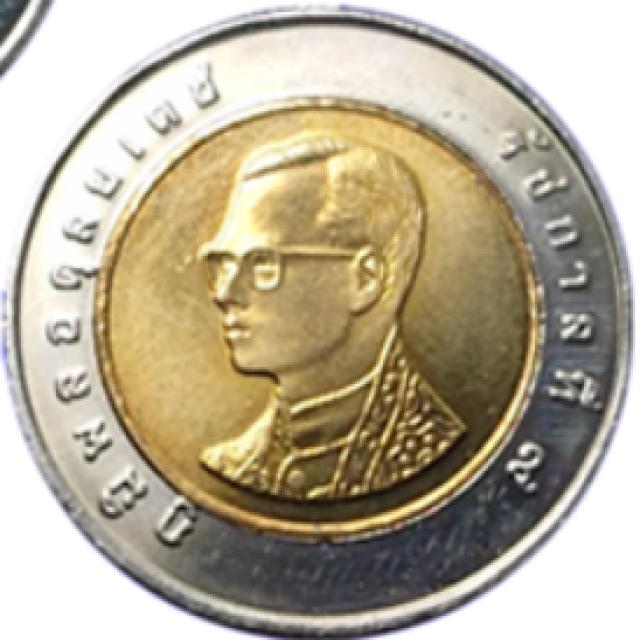10 Bath: (1, 3, 636, 636)
